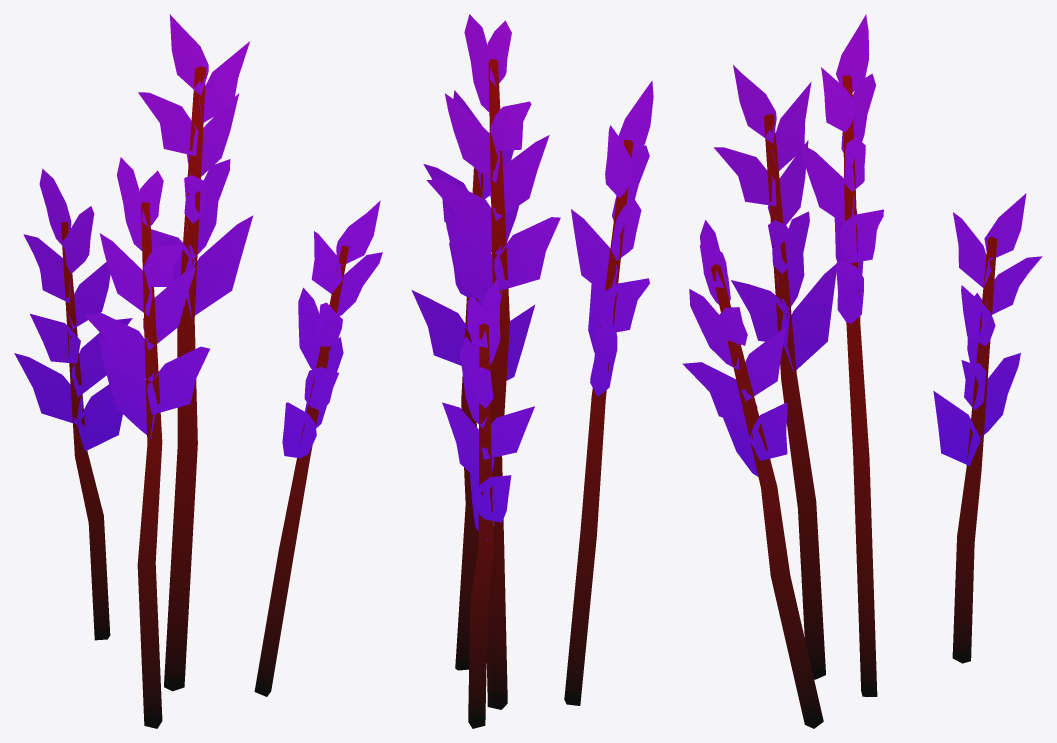
File: SM_Env_Flowers_05.glb
3 views of the same model, side by side, from view 1: azimuth 30°, elevation 25°; view 2: azimuth 150°, elevation 25°; view 3: azimuth 270°, elevation 25° (orthographic).
Parts seen in each view (by area): view 1: SM_Env_Flowers_05_LOD0; view 2: SM_Env_Flowers_05_LOD0; view 3: SM_Env_Flowers_05_LOD0.
Boxes of the visible parts, box(x1,y1,x2,y2) form: SM_Env_Flowers_05_LOD0: box(14, 14, 382, 728); SM_Env_Flowers_05_LOD0: box(411, 14, 653, 728); SM_Env_Flowers_05_LOD0: box(682, 14, 1042, 728).
Size of what is drawn, in the model's own units: 0.7133 by 1.78 by 0.8506.
